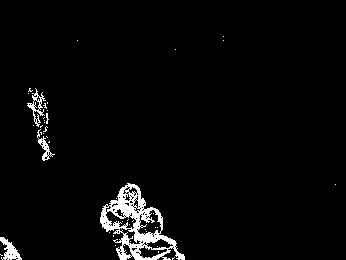person: (26, 85, 55, 161)
